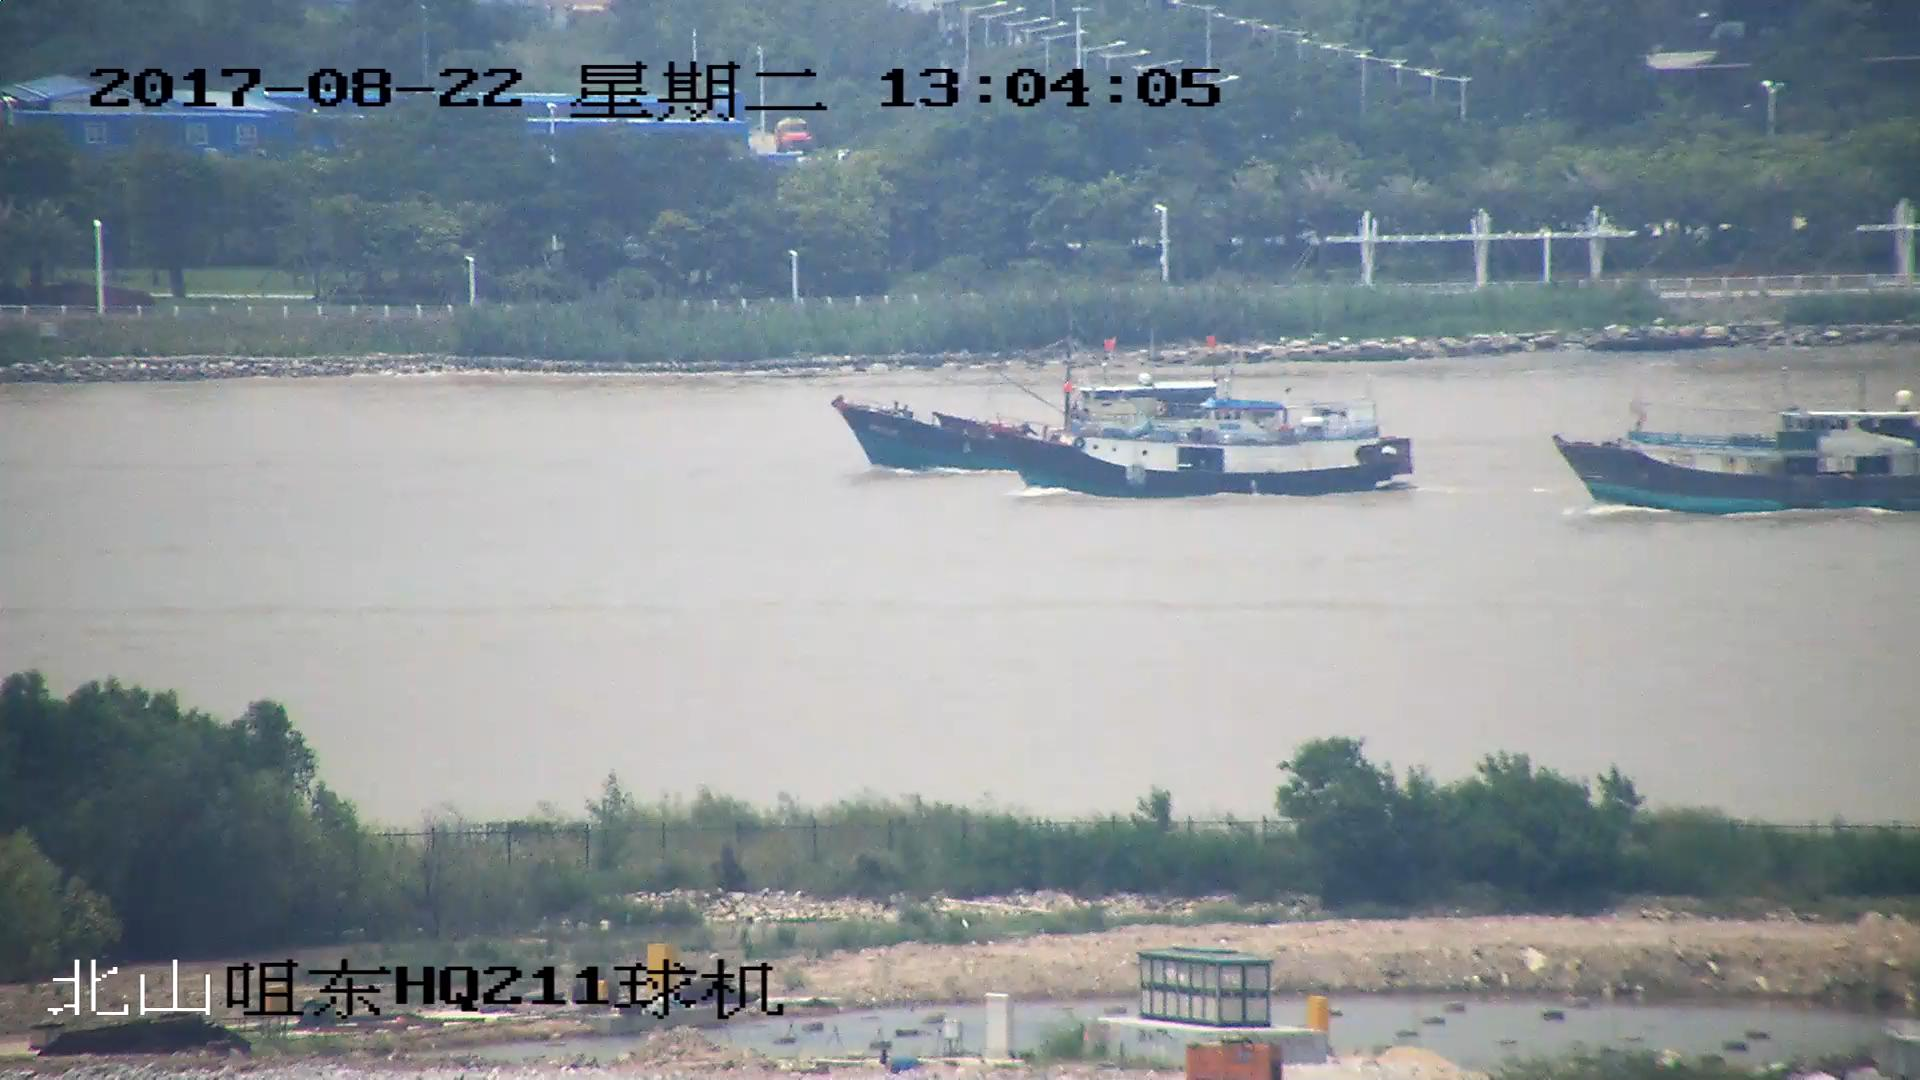fishing boat: (999, 390, 1412, 501), (836, 367, 1242, 473), (1553, 403, 1920, 519)
